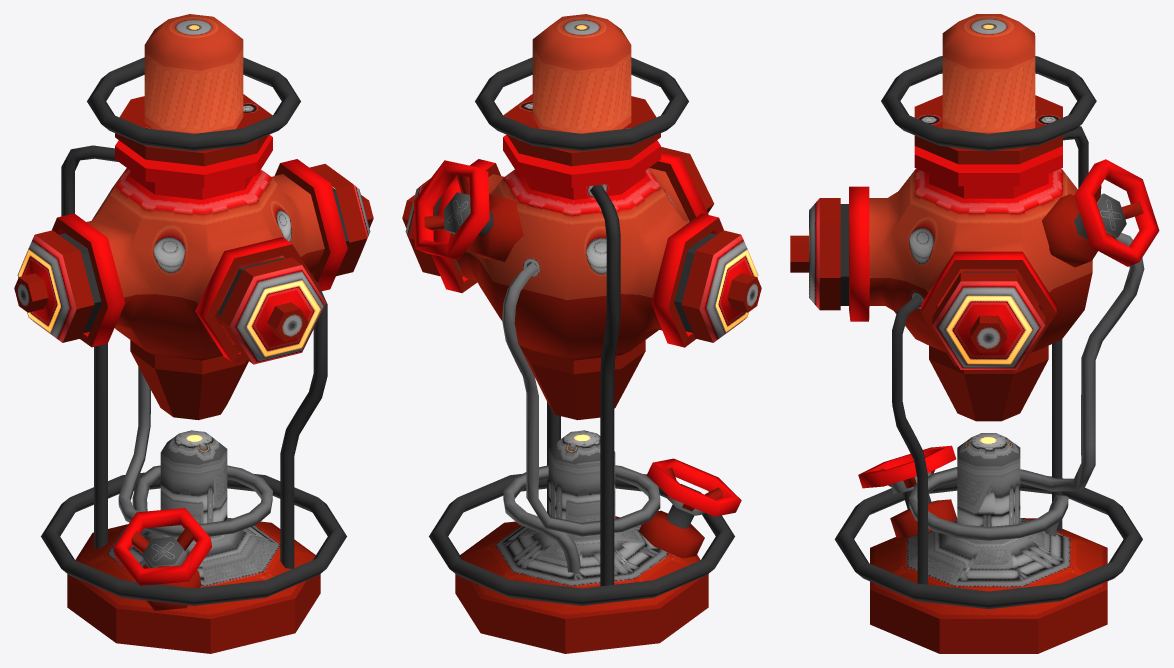
File: pipe_center.glb
The picture shows the model from 3 angles, left to right: view 1: azimuth 30°, elevation 25°; view 2: azimuth 150°, elevation 25°; view 3: azimuth 270°, elevation 25°; orthographic projection.
Visible parts, largest first — view 1: Cylinder.005; view 2: Cylinder.005; view 3: Cylinder.005.
Boxes of the visible parts, bbox=[...] form: Cylinder.005: bbox=[14, 14, 373, 653]; Cylinder.005: bbox=[402, 14, 761, 653]; Cylinder.005: bbox=[790, 14, 1159, 653].
Bounding box in the file's own units: 16.24 × 26.06 × 15.1.
1 material, 1 textured.
